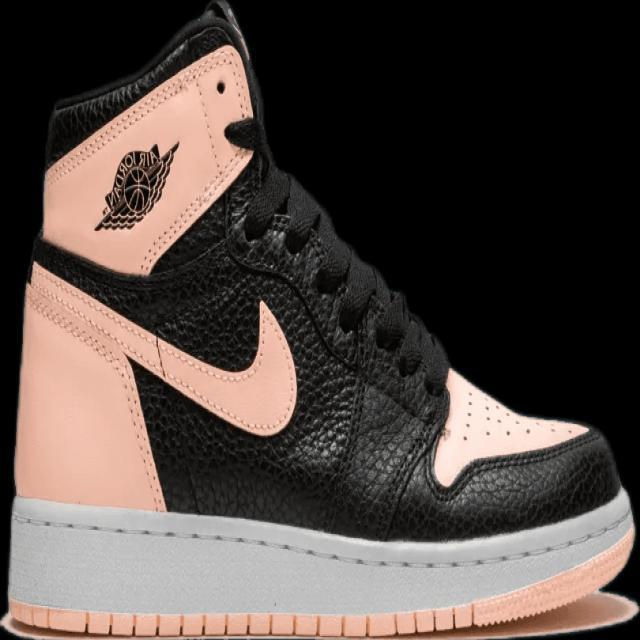J1_InsoleChar: (1, 0, 638, 639)
J1_ShoeLogo: (93, 139, 179, 232)
J1_StitchPattern: (23, 168, 449, 518), (24, 261, 298, 439), (228, 182, 445, 402), (8, 498, 635, 574), (24, 263, 170, 512), (41, 41, 247, 188), (6, 601, 475, 639), (439, 368, 589, 449), (456, 386, 516, 442), (457, 387, 476, 444)
